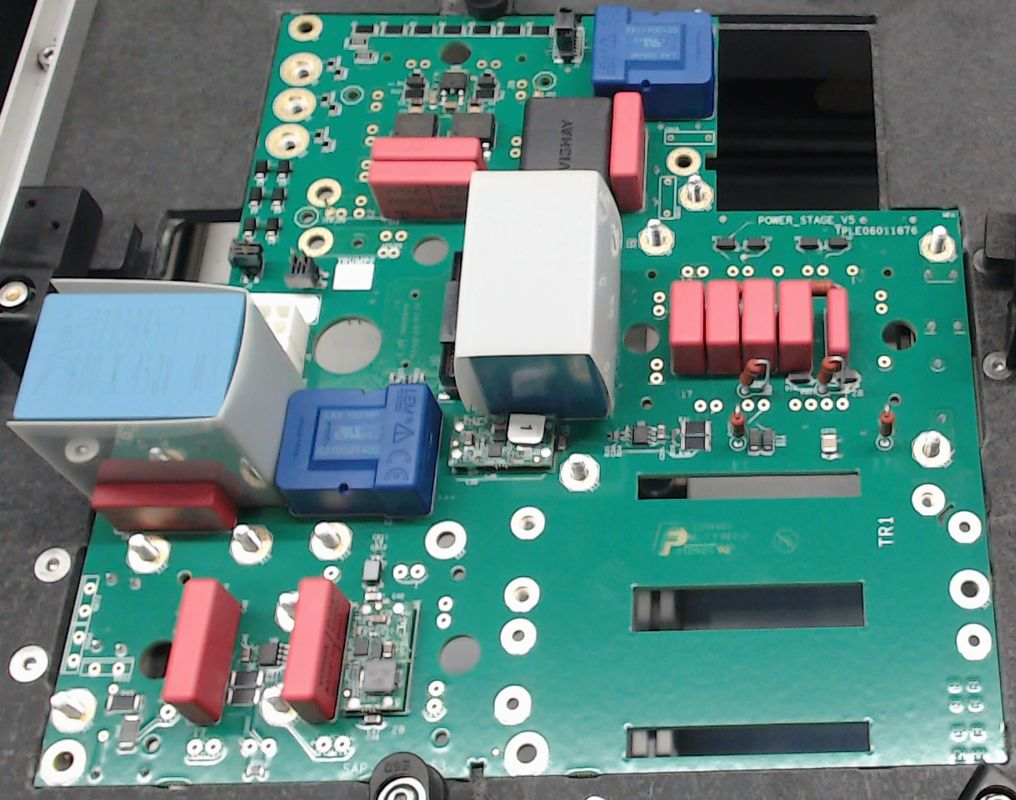comp1: (276, 383, 442, 516), (591, 4, 714, 118)
comp2: (165, 578, 240, 725), (283, 578, 350, 723), (90, 483, 236, 533), (369, 161, 477, 220), (610, 92, 644, 212), (740, 276, 778, 375), (669, 278, 706, 377), (777, 275, 814, 374), (704, 278, 739, 380), (370, 135, 482, 159), (824, 288, 854, 362)
comp3: (520, 96, 614, 172)
comp4: (4, 279, 310, 511), (453, 171, 621, 422)
